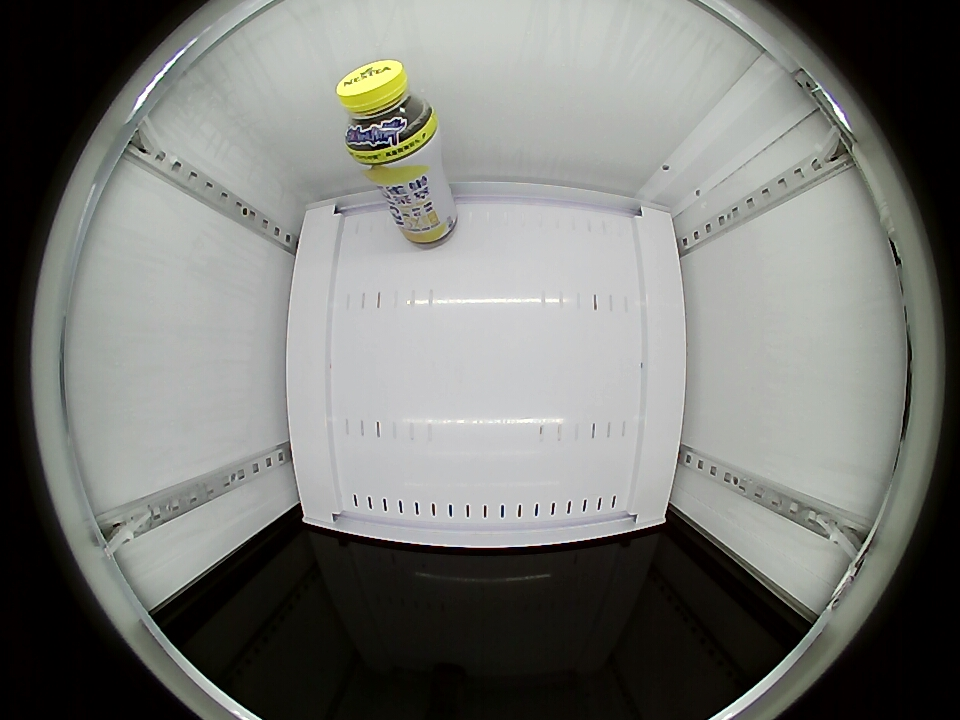chacui: (338, 60, 438, 165)
